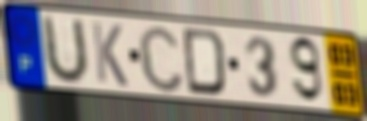3: (242, 35, 279, 100)
9: (287, 35, 326, 107)
C: (135, 22, 186, 95)
D: (181, 25, 229, 99)
K: (89, 19, 130, 90)
U: (42, 12, 91, 86)
